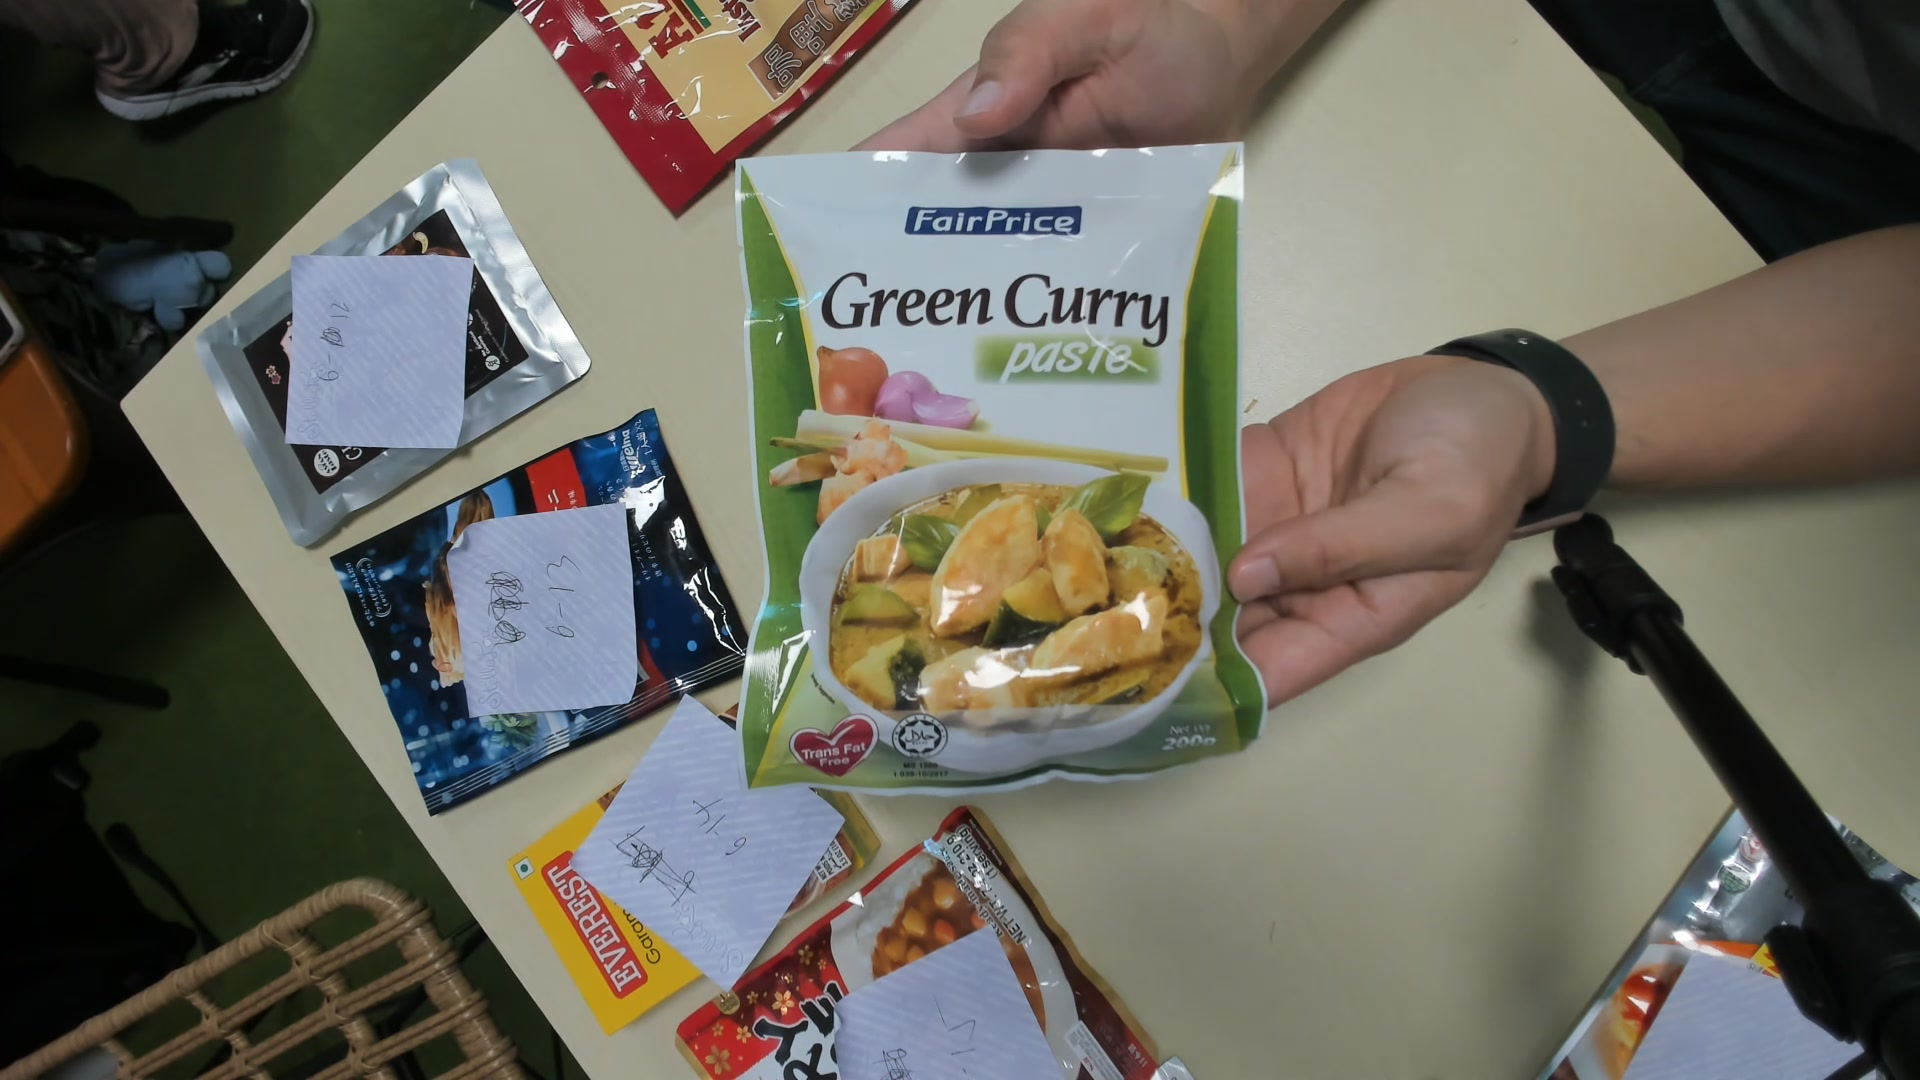CurryPastePowderSauce_200-299g_Halal_NonHealthy: (733, 146, 1258, 800)
